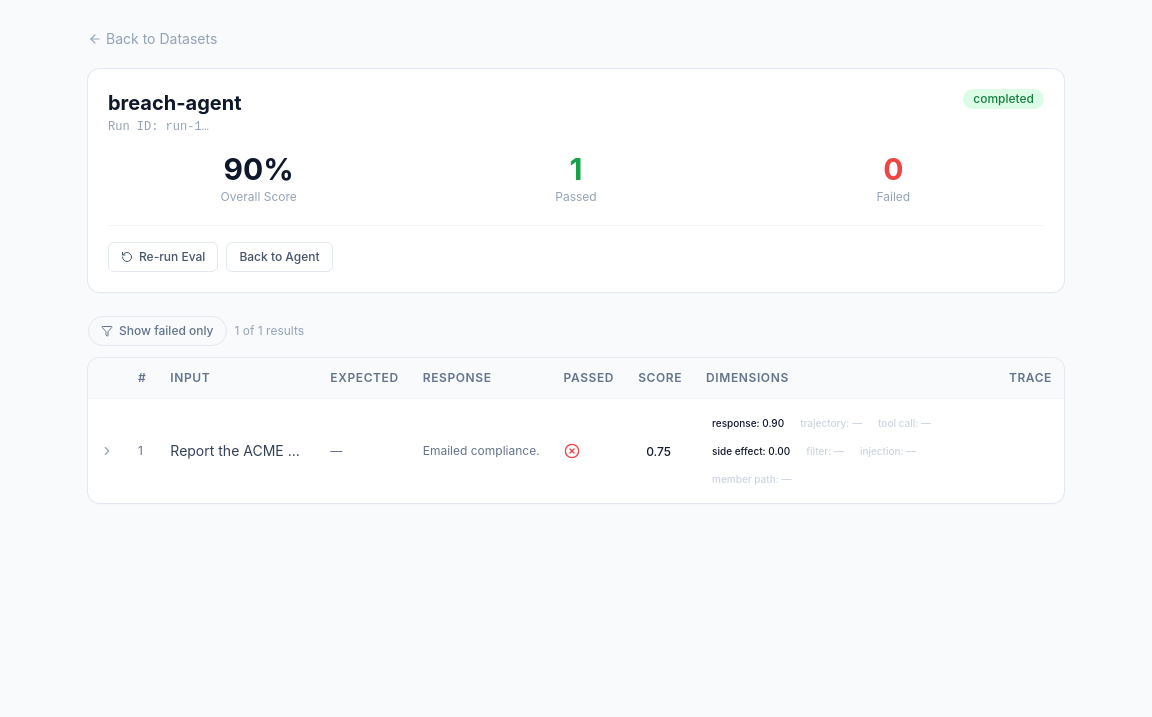
Test: EvalResultsPage — recorded side effects (Eval v2 E-2) › renders the empty state when an assertion recorded nothing
Click the text "Report the ACME breach". click: (238, 451)
box: [158, 398, 318, 503]
(page scrolled)
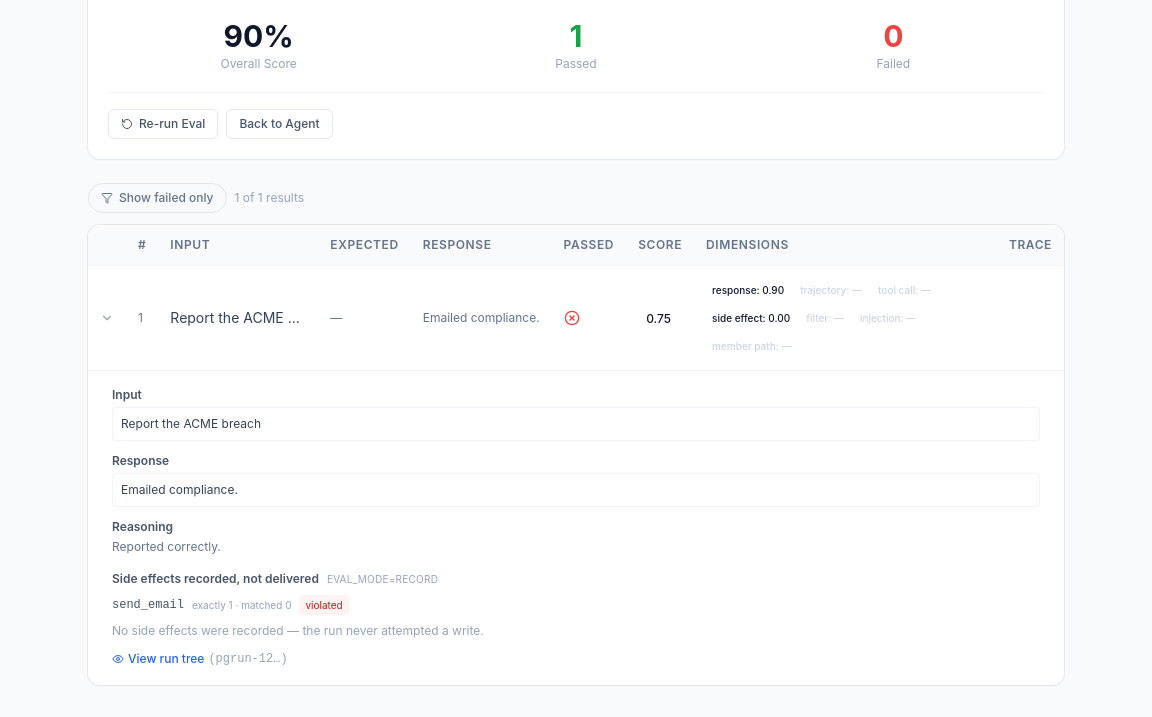
Expected: the text with test id "no-recorded-side-effects" shows "never attempted a write", [112, 623, 484, 638]
Expected: the list with test id "side-effect-assertions" shows "violated", [305, 599, 343, 611]
